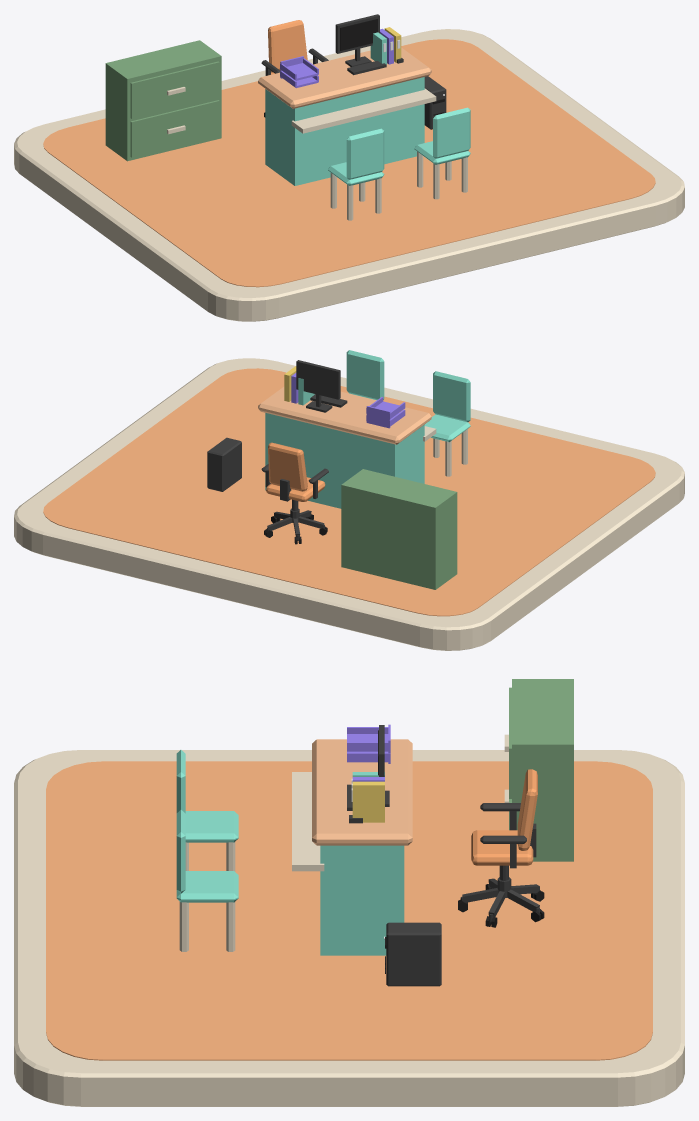
3 views of the same model, one above another, from view 1: azimuth 30°, elevation 25°; view 2: azimuth 150°, elevation 25°; view 3: azimuth 270°, elevation 25° (orthographic). The views are drawn at different scales.
Parts seen in each view (by area): view 1: COM-02 Floor Surface, COM-01 Rounded Base Direct, Cabinet, Counter body, Countertop, Visitor shelf, COM-04_Chair_blender_direct, Backrest, Backrest.001, Frame, Tower, Seat (+1 smaller); view 2: COM-02 Floor Surface, COM-01 Rounded Base Direct, Cabinet, Counter body, Countertop, COM-04_Chair_blender_direct, Backrest.001, Backrest, Tower, Frame, Seat; view 3: COM-02 Floor Surface, COM-01 Rounded Base Direct, Cabinet, Counter body, Countertop, COM-04_Chair_blender_direct, Tower, Visitor shelf, Seat.001, Seat, File.002, Backrest.001.
Part boxes in pixels (x1,y1,x2,y2): COM-02 Floor Surface: (43, 39, 655, 287); COM-01 Rounded Base Direct: (14, 29, 684, 321); Cabinet: (105, 40, 221, 161); Counter body: (265, 77, 424, 185); Countertop: (258, 47, 431, 108); Visitor shelf: (291, 88, 436, 133); COM-04_Chair_blender_direct: (261, 20, 328, 117); Backrest: (346, 128, 384, 179); Backrest.001: (433, 107, 470, 158); Frame: (335, 14, 379, 66); Tower: (424, 76, 446, 129); Seat: (328, 162, 384, 185); COM-02 Floor Surface: (43, 368, 655, 616); COM-01 Rounded Base Direct: (14, 358, 684, 650); Cabinet: (341, 469, 457, 589); Counter body: (265, 413, 424, 508); Countertop: (258, 386, 431, 444); COM-04_Chair_blender_direct: (261, 442, 328, 544); Backrest.001: (346, 350, 384, 399); Backrest: (433, 371, 470, 422); Tower: (207, 437, 241, 491); Frame: (296, 360, 340, 412); Seat: (424, 414, 470, 442); COM-02 Floor Surface: (46, 761, 652, 1060); COM-01 Rounded Base Direct: (14, 750, 684, 1106); Cabinet: (504, 679, 573, 861); Counter body: (320, 845, 404, 955); Countertop: (312, 739, 412, 845); COM-04_Chair_blender_direct: (458, 769, 544, 927); Tower: (386, 922, 441, 986); Visitor shelf: (292, 772, 324, 871); Seat.001: (176, 871, 238, 902); Seat: (185, 811, 238, 842); File.002: (352, 781, 384, 822); Backrest.001: (176, 810, 185, 893).
Bounding box in the file's own units: 6 × 1.87 × 5.2.
Materials: 1 (1 with a texture image).
